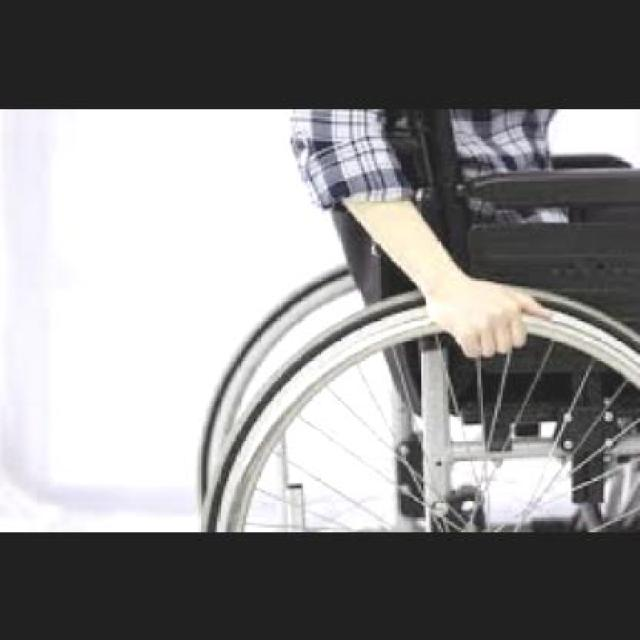wheelchairs: (191, 109, 640, 531)
